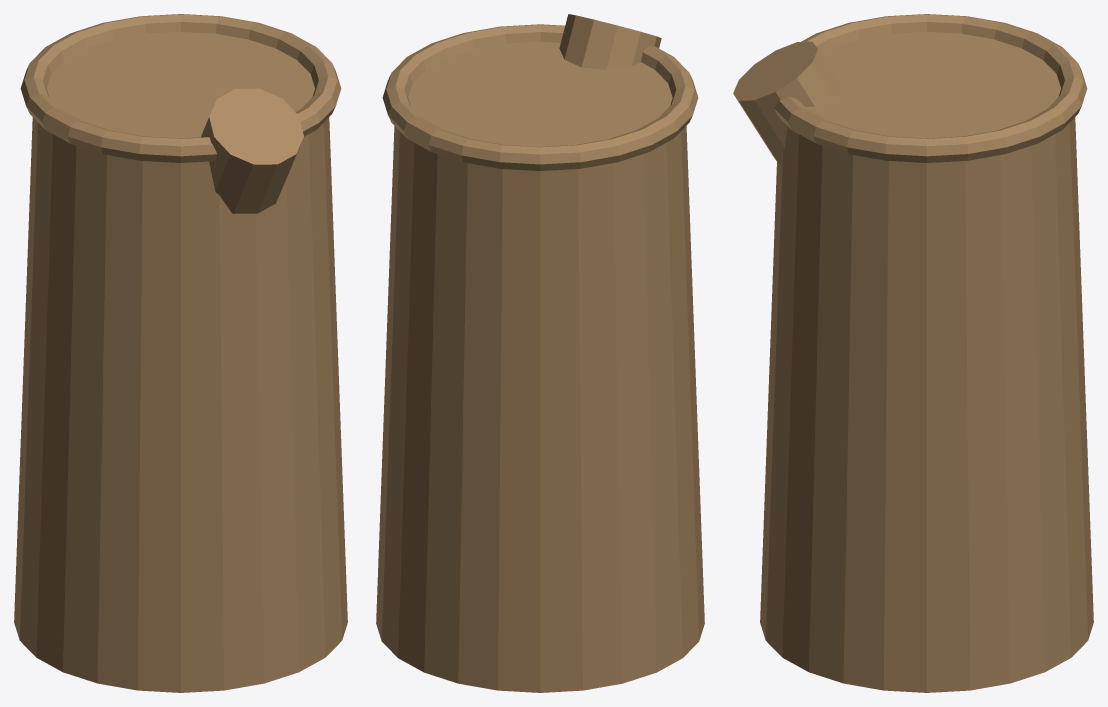
The model's file is jug.glb.
The picture shows the model from 3 angles, left to right: view 1: azimuth 30°, elevation 25°; view 2: azimuth 150°, elevation 25°; view 3: azimuth 270°, elevation 25°; orthographic projection.
Visible parts, largest first — view 1: jug; view 2: jug; view 3: jug.
Part boxes in pixels (x1,y1,x2,y2): jug: (14,14,347,692); jug: (376,14,704,692); jug: (733,14,1093,692).
Bounding box in the file's own units: 0.102 × 0.1933 × 0.1102.
